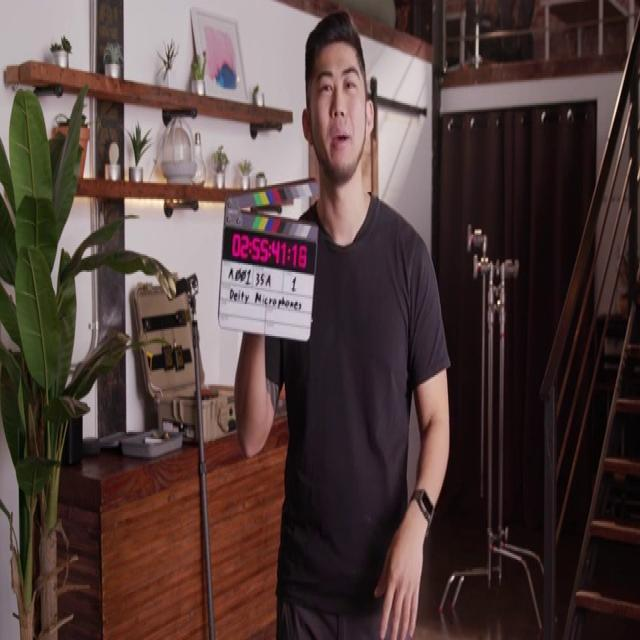Clapperboard: (216, 173, 318, 342)
